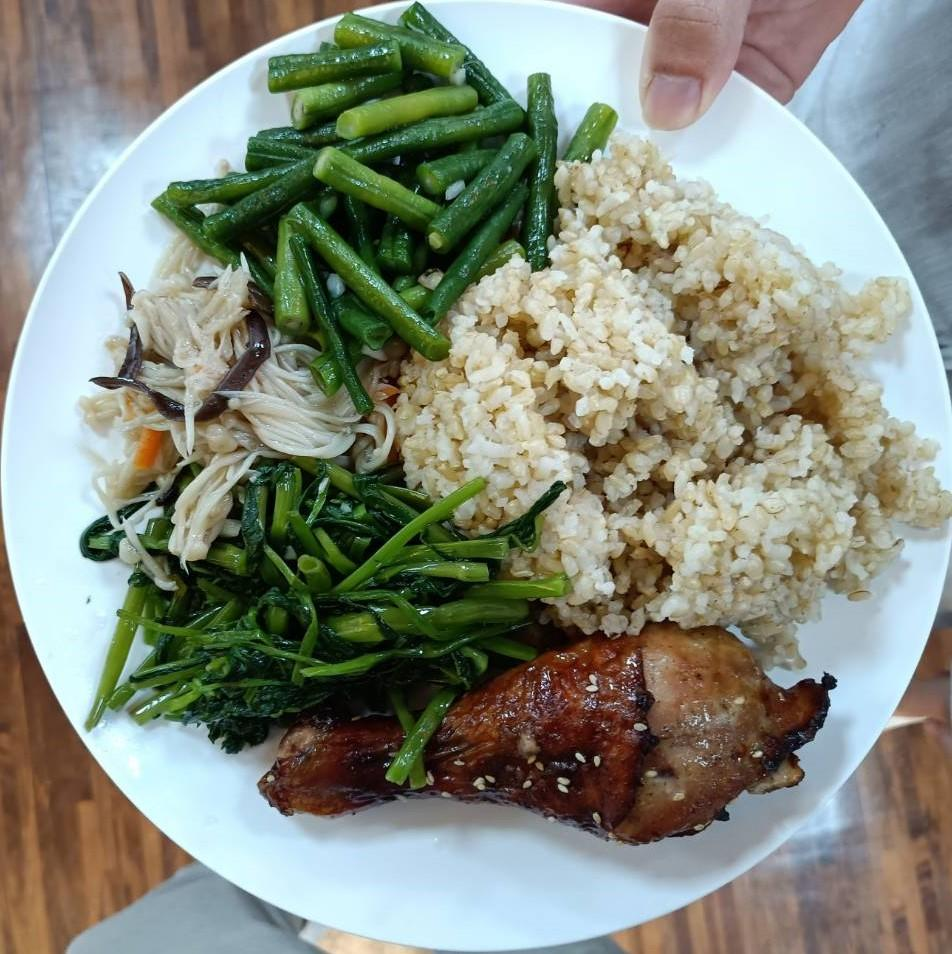big fried chicken leg: (2, 6, 952, 954)
box: (378, 136, 922, 633)
braised fish fillet: (163, 12, 602, 371), (80, 460, 548, 734), (86, 248, 402, 550)
braised pork: (253, 616, 834, 849)
